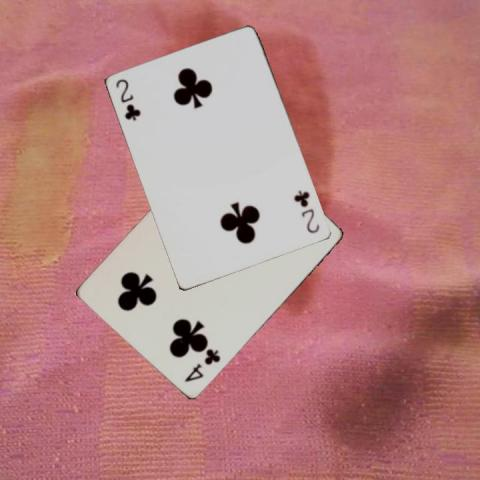2c: (292, 187, 322, 235), (113, 76, 142, 123)
4c: (181, 346, 222, 384)
